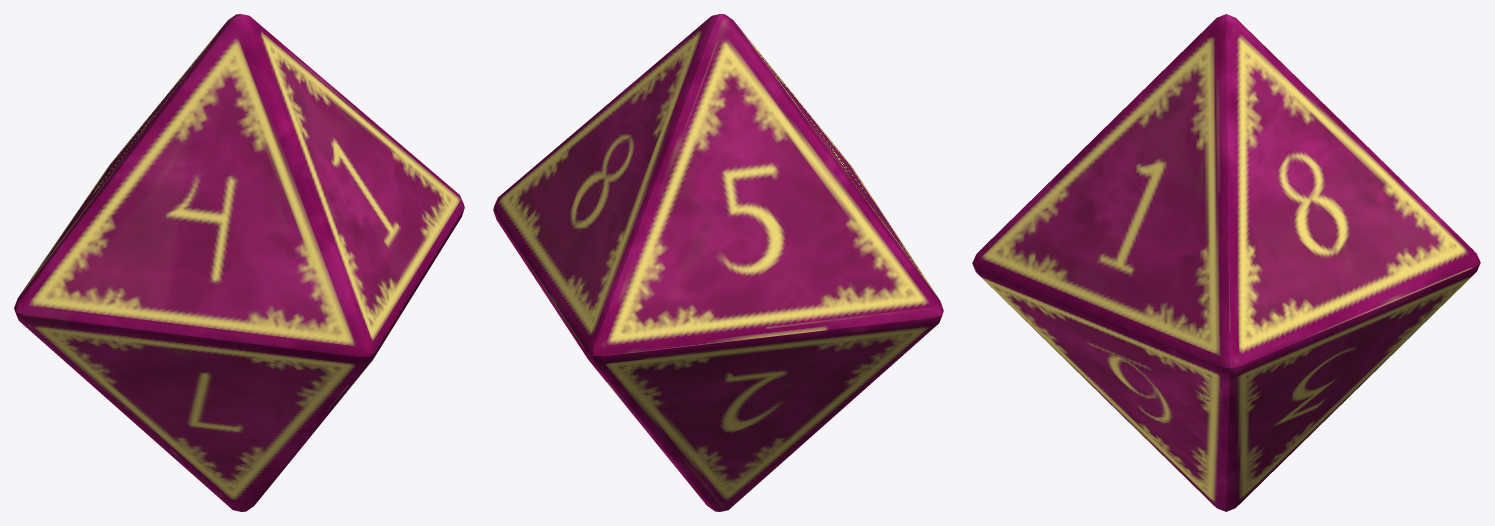
The picture shows the model from 3 angles, left to right: view 1: azimuth 30°, elevation 25°; view 2: azimuth 150°, elevation 25°; view 3: azimuth 270°, elevation 25°; orthographic projection.
Visible parts, largest first — view 1: pCone1; view 2: pCone1; view 3: pCone1.
Boxes of the visible parts, bbox=[...] form: pCone1: bbox=[14, 14, 464, 511]; pCone1: bbox=[493, 14, 943, 511]; pCone1: bbox=[972, 14, 1480, 511].
Size of the model in its own units: 0.0178 by 0.0189 by 0.0175.
1 material, 1 textured.
